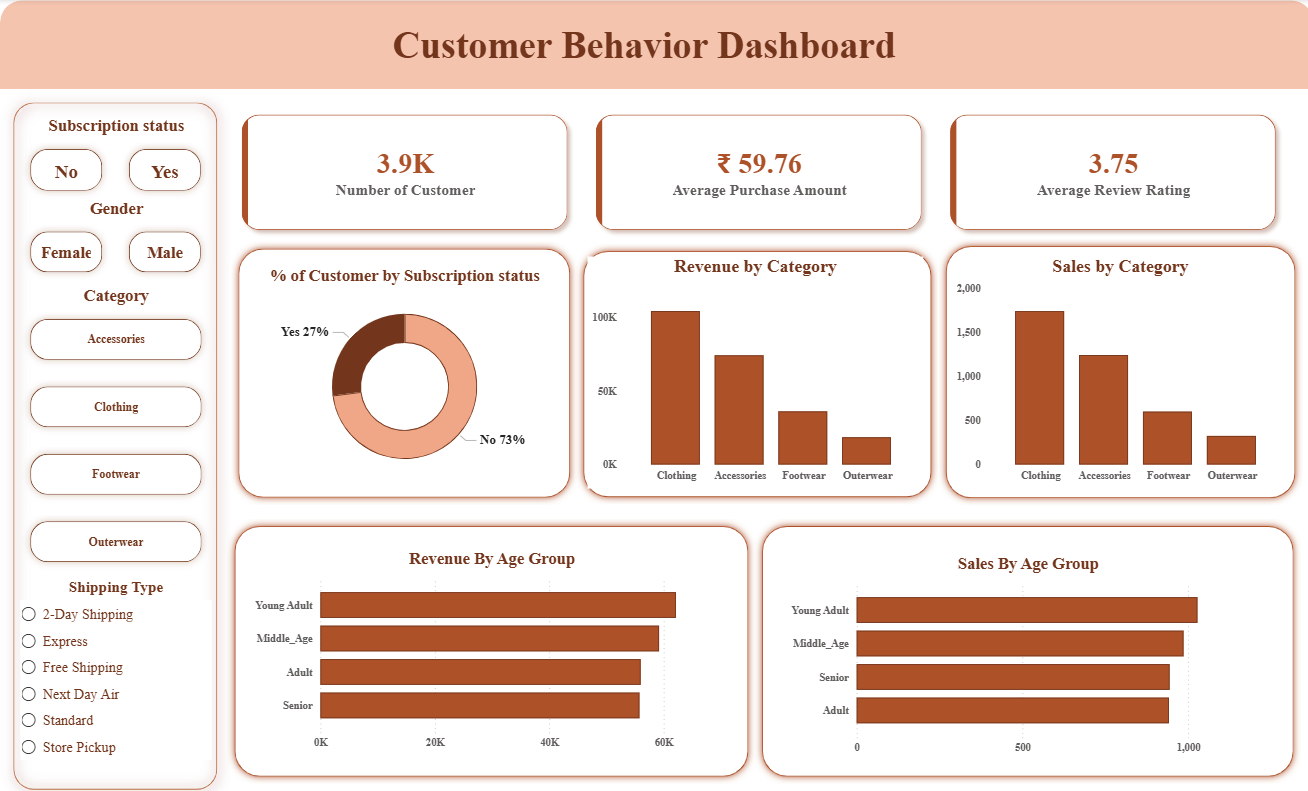

Layout of this report page (visuals, bound fields, positions):
{"tool":"powerbi","page":{"name":"Page 1","canvas":[1480,900],"ordinal":0},"visuals":[{"type":"cardVisual","fields":{"Data":["public customer.number of customer","public customer.average purchase amount","public customer.average review rating"]},"box":[243.7,101.7,1224.2,188],"z":0},{"type":"shape","box":[0,1.6,1480.3,100],"z":1},{"type":"textbox","box":[85.7,22.2,1280.4,61.9],"z":2},{"type":"shape","box":[260,273.3,390,296.7],"z":3},{"type":"donutChart","title":"% of Customer by Subscription status","fields":{"Category":["public customer.subscription_status"],"Y":["CountNonNull(public customer.customer_id)"]},"box":[280,301.7,351.7,250],"z":4},{"type":"shape","box":[650,276.7,408.3,293.3],"z":5},{"type":"shape","box":[1058.3,270,410,300],"z":6},{"type":"clusteredColumnChart","title":"Revenue by Category","fields":{"Y":["Sum(public customer.purchase_amount)"],"Category":["public customer.category"]},"box":[661.7,290,378.3,261.7],"z":7},{"type":"clusteredColumnChart","title":"Sales by Category","fields":{"Y":["CountNonNull(public customer.customer_id)"],"Category":["public customer.category"]},"box":[1073.3,290,378.3,261.7],"z":8},{"type":"shape","box":[0,101.7,260,805],"z":9},{"type":"advancedSlicerVisual","title":"Subscription status","fields":{"Values":["public customer.subscription_status"]},"box":[18.1,132.3,225.6,100.3],"z":10},{"type":"advancedSlicerVisual","title":"Gender","fields":{"Values":["public customer.gender"]},"box":[18.1,225.6,225.6,98.9],"z":11},{"type":"advancedSlicerVisual","title":"Category","fields":{"Values":["public customer.category"]},"box":[18.2,324.5,225.5,328.2],"z":12},{"type":"listSlicer","title":"Shipping Type","fields":{"Values":["public customer.shipping_type"]},"box":[18.3,653.3,225,231.7],"z":13},{"type":"shape","box":[256.7,586.7,595,298.3],"z":14},{"type":"clusteredBarChart","title":"Revenue By Age Group","fields":{"Y":["Sum(public customer.purchase_amount)"],"Category":["public customer.age_group"]},"box":[280,620,548.3,233.3],"z":15},{"type":"shape","box":[851.7,586.7,615,298.3],"z":16},{"type":"clusteredBarChart","title":"Sales By Age Group","fields":{"Y":["CountNonNull(public customer.customer_id)"],"Category":["public customer.age_group"]},"box":[885,625,548.3,233.3],"z":17}]}

Visuals, with their boxes in screenshot pixels (x1, y1, x2, y2), scaled from the page's 1480x900 canvas onto the 1308x791 screenshot:
cardVisual - public customer.number of customer x public customer.average purchase amount: region(215, 89, 1297, 255)
shape: region(0, 1, 1307, 89)
textbox: region(76, 20, 1207, 74)
shape: region(230, 240, 574, 501)
"% of Customer by Subscription status" donutChart: region(247, 265, 558, 485)
shape: region(574, 243, 935, 501)
shape: region(935, 237, 1298, 501)
"Revenue by Category" clusteredColumnChart: region(585, 255, 919, 485)
"Sales by Category" clusteredColumnChart: region(949, 255, 1283, 485)
shape: region(0, 89, 230, 790)
"Subscription status" advancedSlicerVisual: region(16, 116, 215, 204)
"Gender" advancedSlicerVisual: region(16, 198, 215, 285)
"Category" advancedSlicerVisual: region(16, 285, 215, 574)
"Shipping Type" listSlicer: region(16, 574, 215, 778)
shape: region(227, 516, 753, 778)
"Revenue By Age Group" clusteredBarChart: region(247, 545, 732, 750)
shape: region(753, 516, 1296, 778)
"Sales By Age Group" clusteredBarChart: region(782, 549, 1267, 754)
